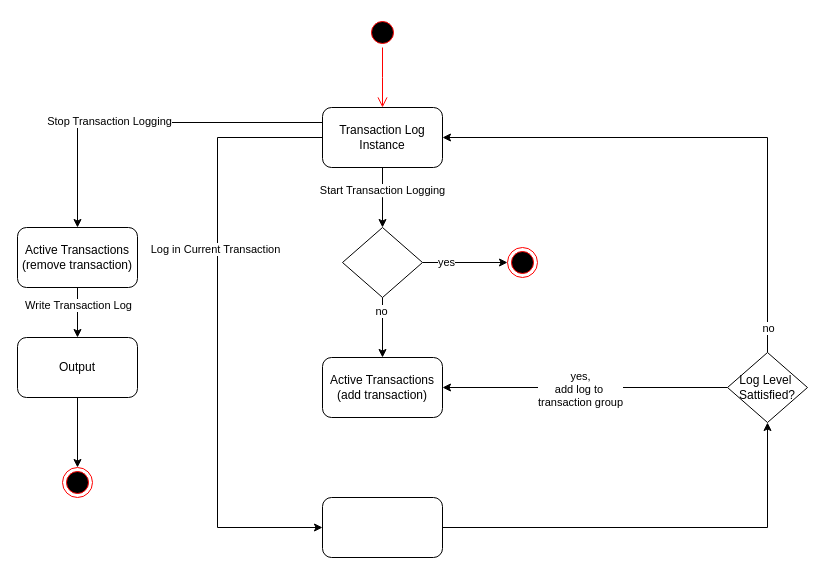
Image size: 825x575. Some labels were removed from this diagram. The shapes that lost their labels are listed below. From the top down, each one's centre as x and y in pixels, then its label:
point 382,262: Transaction is active?
point 382,527: Info/Warning/ Error/Debug
